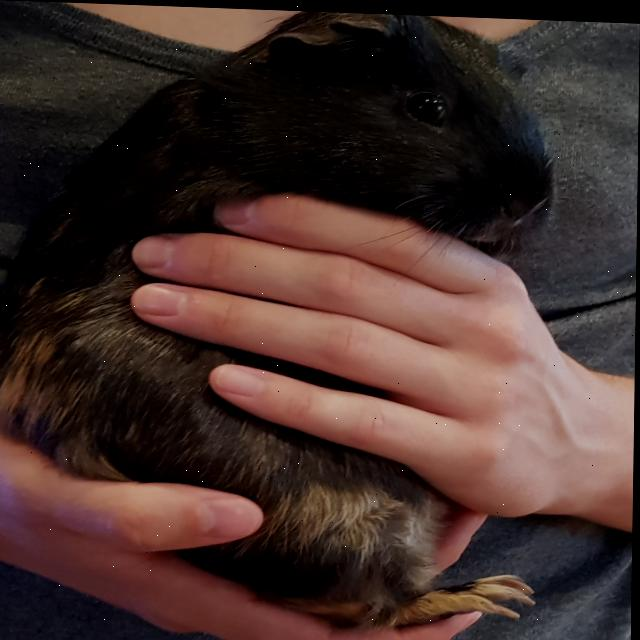guinea pig: (0, 0, 561, 637)
